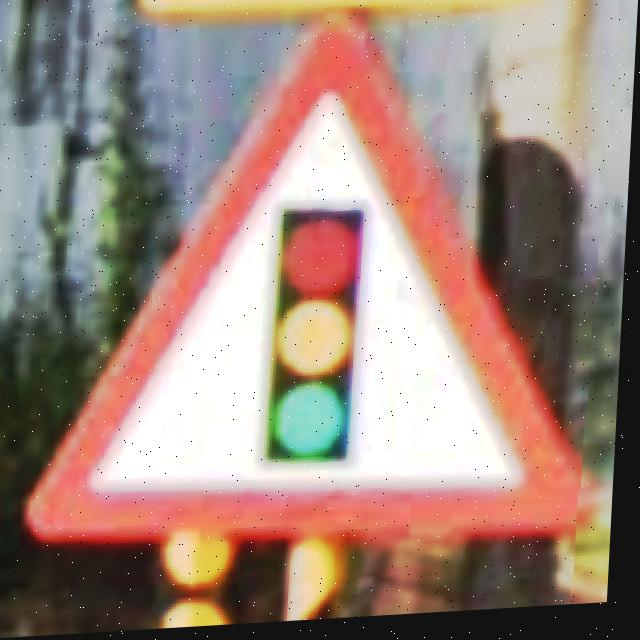signalahead: (35, 24, 598, 542)
